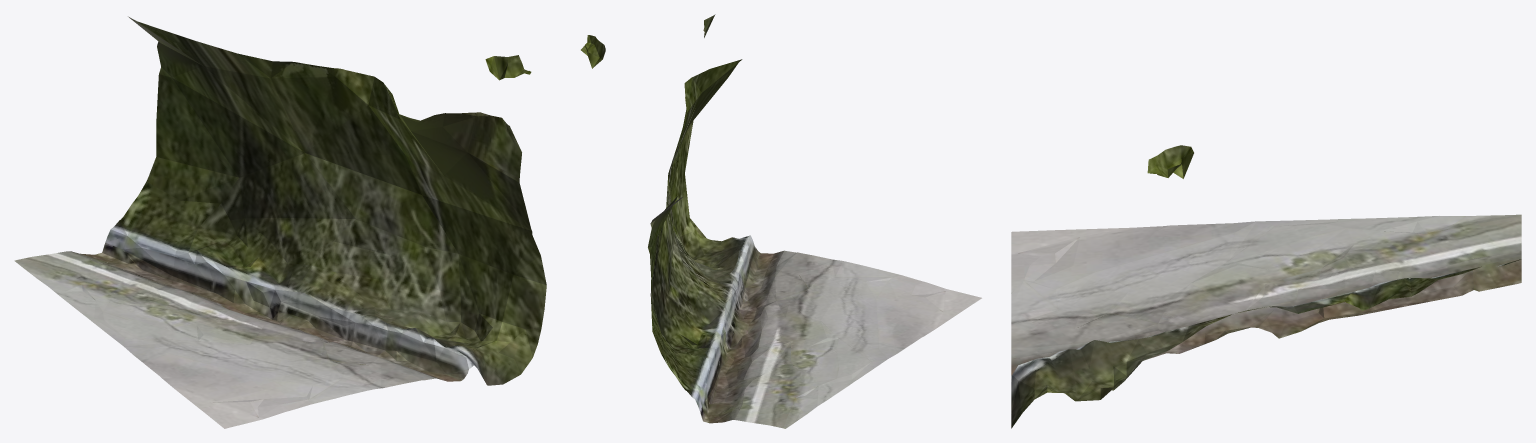
3 renders of one model, left to right at view 1: azimuth 30°, elevation 25°; view 2: azimuth 150°, elevation 25°; view 3: azimuth 270°, elevation 25°, orthographic. The views are drawn at different scales.
Size of the model in its own units: 5.9 by 3.98 by 5.9.
Materials: 3 (3 with a texture image).
